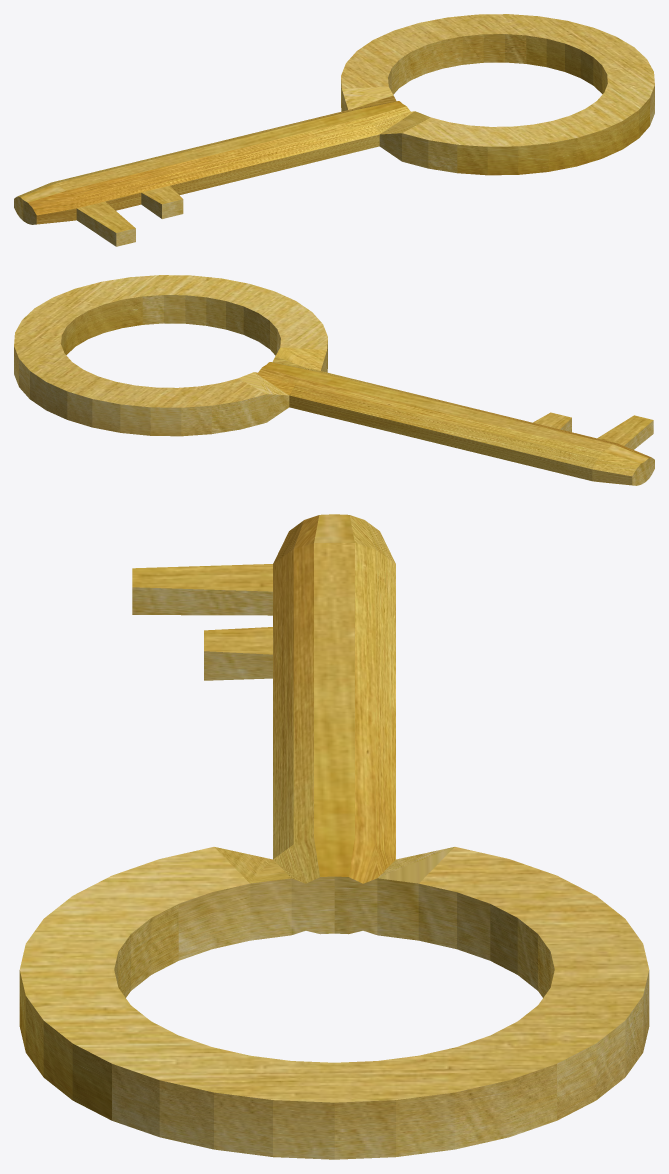
The model's file is key.fbx.
3 renders of one model, top to bottom at view 1: azimuth 30°, elevation 25°; view 2: azimuth 150°, elevation 25°; view 3: azimuth 270°, elevation 25°, orthographic. The views are drawn at different scales.
Visible parts, largest first — view 1: Cylinder; view 2: Cylinder; view 3: Cylinder.
Boxes of the visible parts, box(x1,y1,x2,y2) form: Cylinder: box(14, 14, 654, 246); Cylinder: box(14, 275, 654, 485); Cylinder: box(19, 514, 649, 1159).
Size of the model in its own units: 89.63 by 4 by 40.
Materials: 1 (1 with a texture image).
